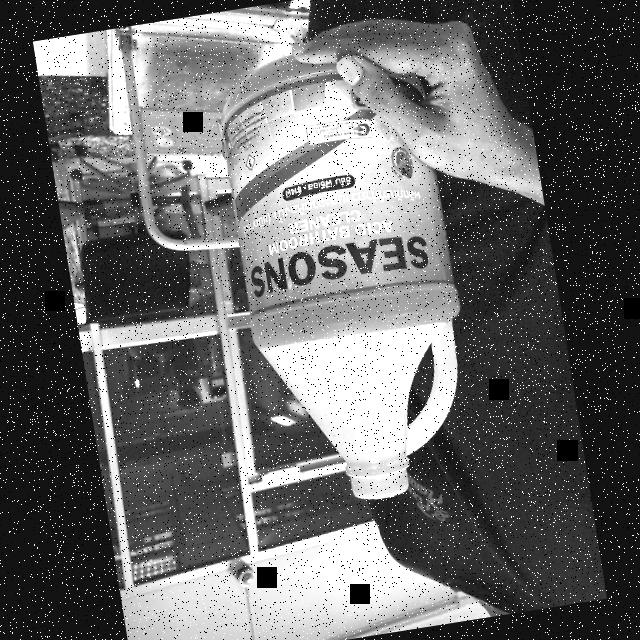chemical_plastic_gallon: (210, 38, 486, 520)
